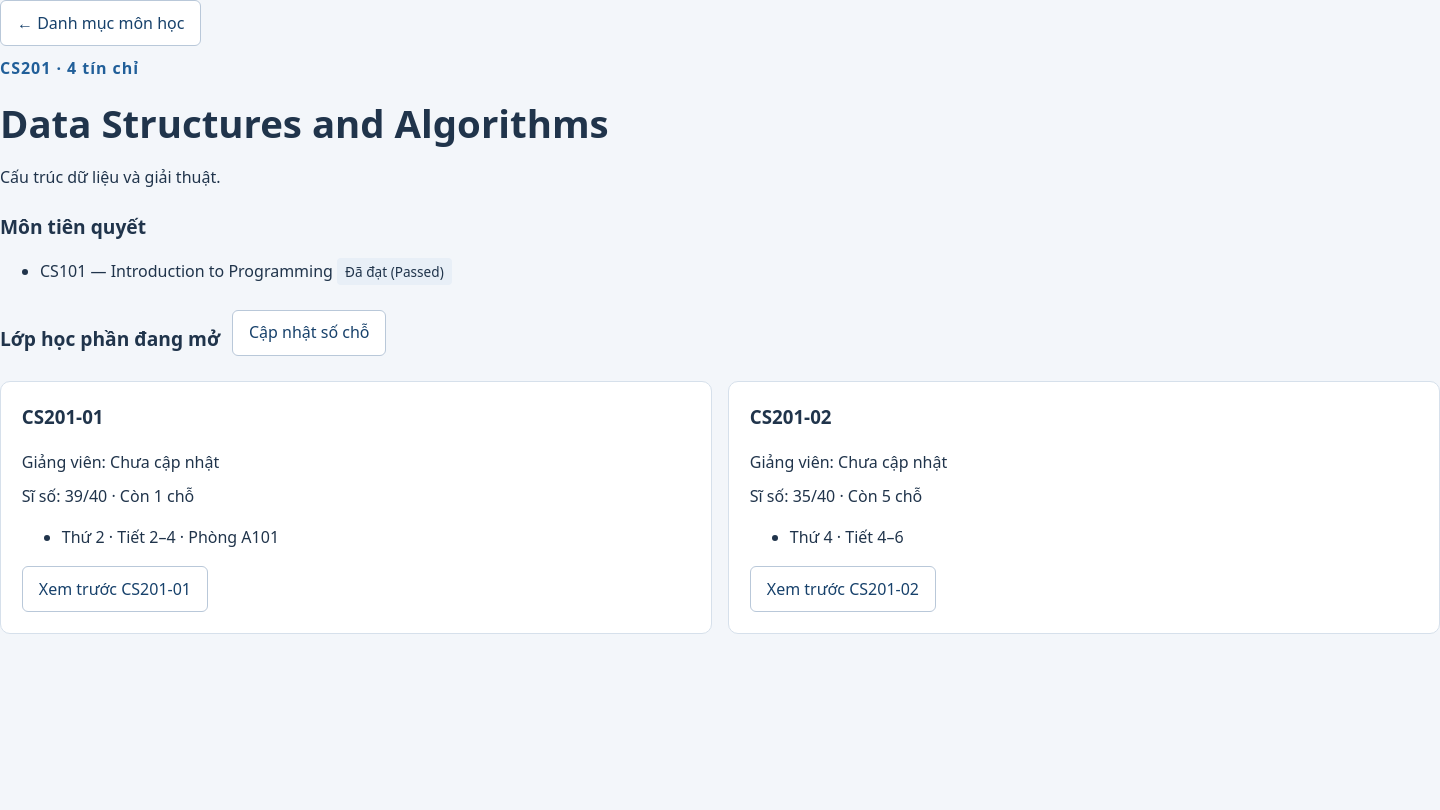
US-09: Vào hàng chờ khi lớp đầy › không hiện nút vào hàng chờ khi lớp còn chỗ
Click the button "Xem trước CS201-02". click: (843, 589)
box: [750, 566, 936, 612]
(page scrolled)
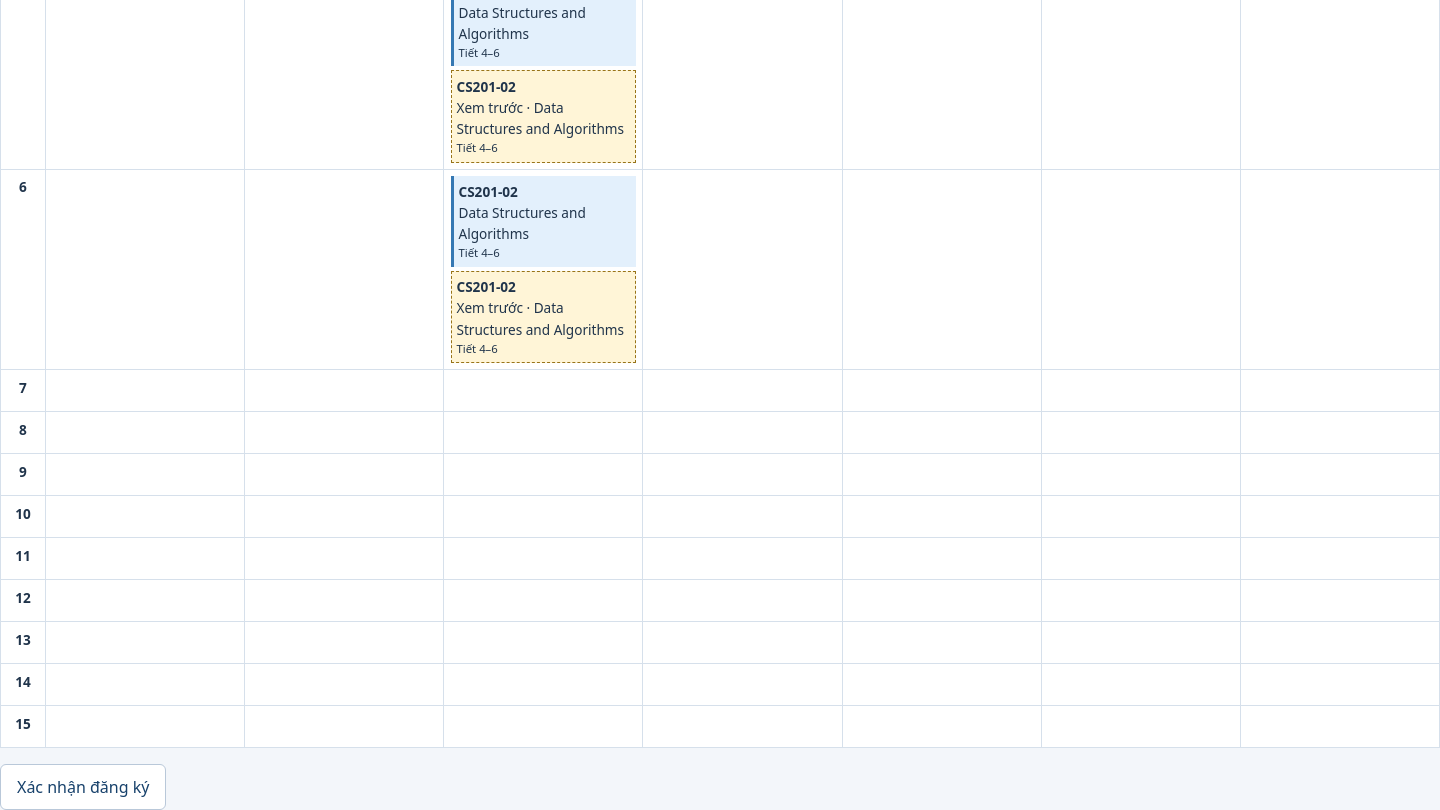
Result: the button "Xác nhận đăng ký" is shown at [0, 764, 166, 809]
